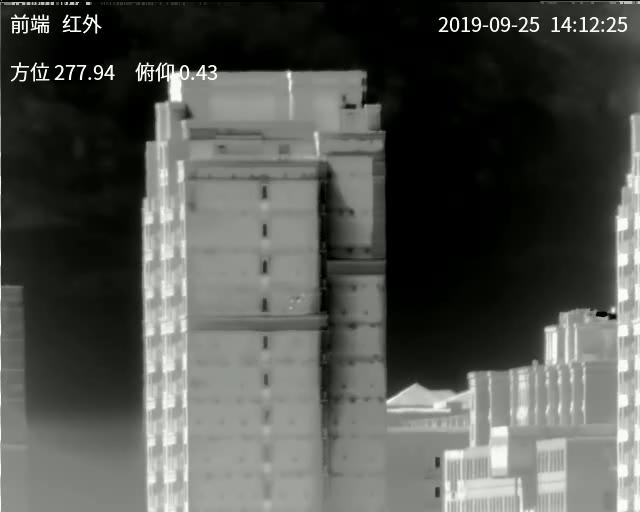uav: (282, 287, 306, 311)
